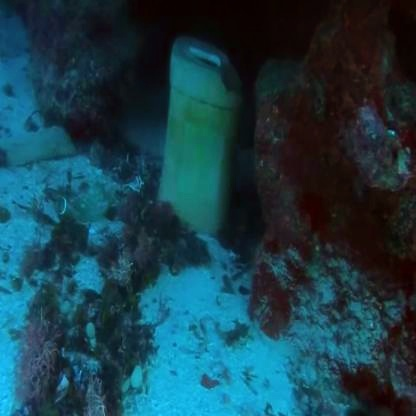plastic: (153, 44, 251, 262)
